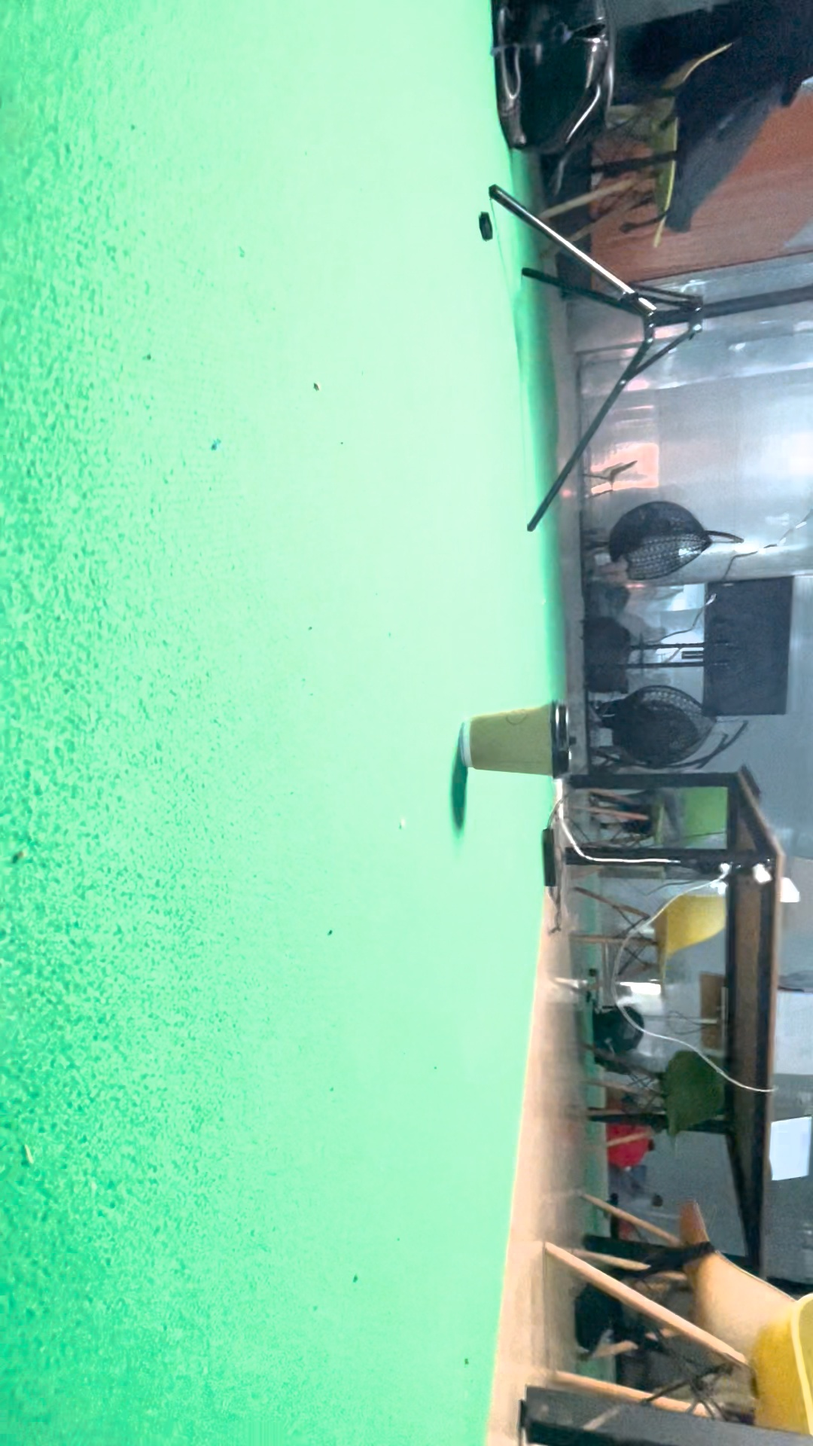cup: (444, 706, 525, 1108)
